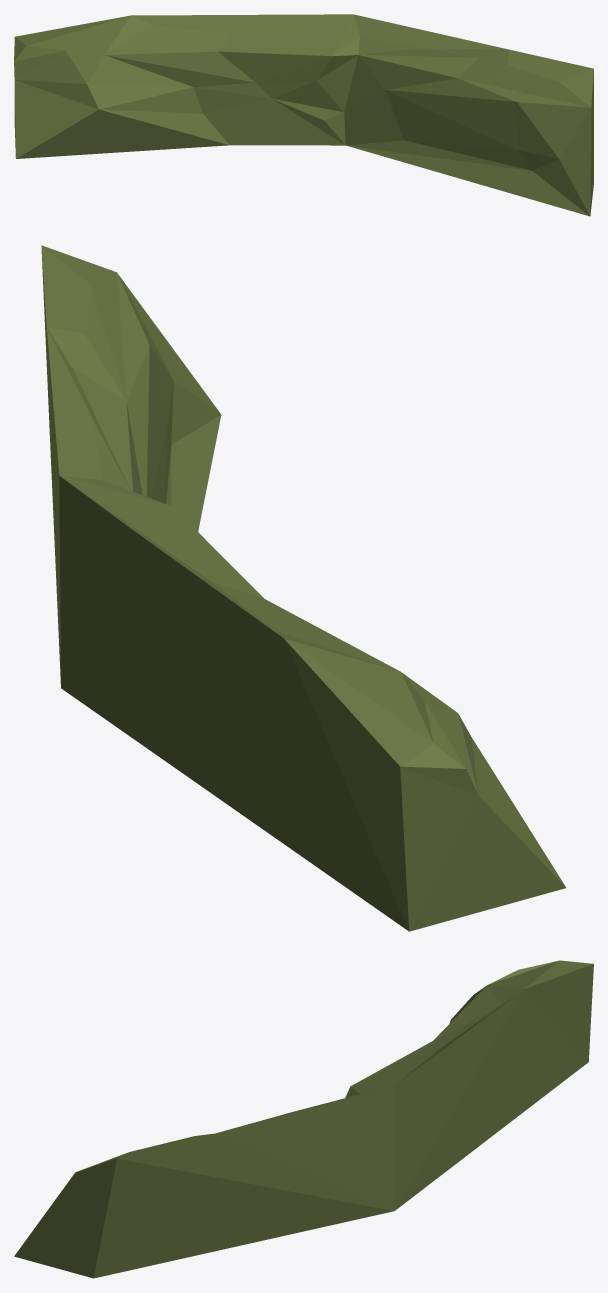
Rendered from ground_38.fbx.
3 views of the same model, one above another, from view 1: azimuth 30°, elevation 25°; view 2: azimuth 150°, elevation 25°; view 3: azimuth 270°, elevation 25° (orthographic). The views are drawn at different scales.
Parts seen in each view (by area): view 1: ground_38; view 2: ground_38; view 3: ground_38.
Part boxes in pixels (box(x1,y1,x2,y2)): ground_38: box(14, 14, 593, 216); ground_38: box(41, 245, 566, 931); ground_38: box(14, 960, 593, 1278).
Bounding box in the file's own units: 4.25 × 1.02 × 4.26.
